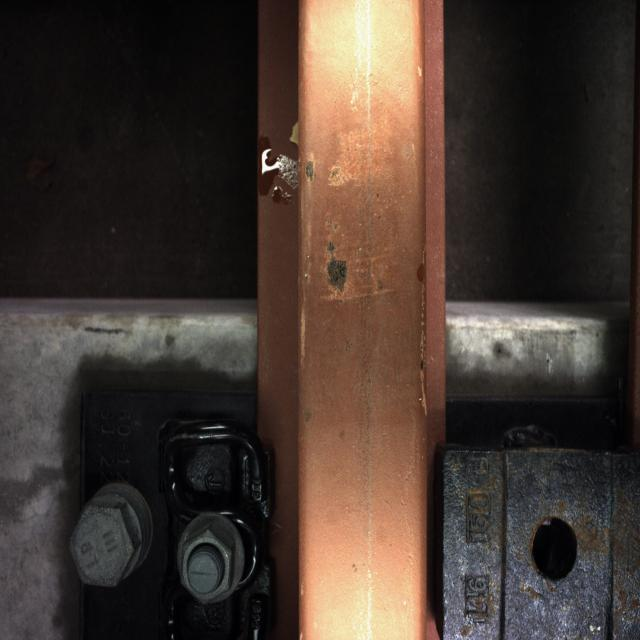scar: (305, 80, 423, 366)
